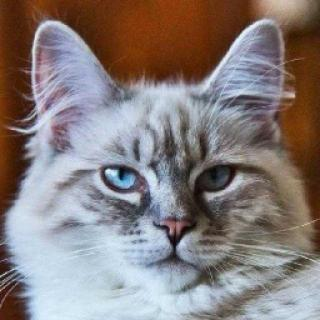cat: (24, 18, 294, 277)
nose: (150, 192, 198, 249)
